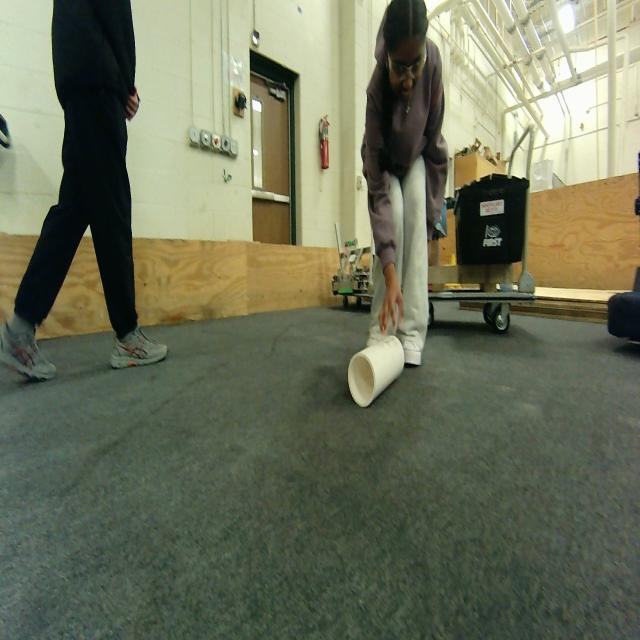coral: (336, 329, 412, 411)
